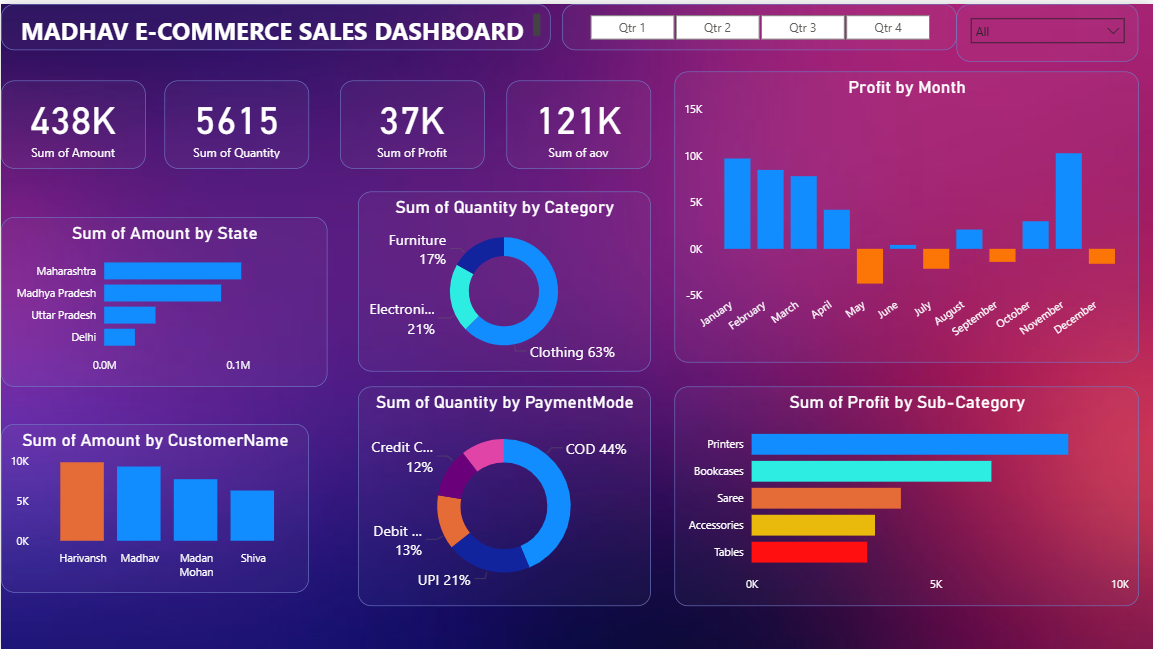

This screenshot's page, from the dashboard's own definition file:
{"tool":"powerbi","page":{"name":"Page 1","canvas":[1280,720],"ordinal":0},"visuals":[{"type":"textbox","box":[0,0,610.4,51],"z":0},{"type":"columnChart","title":"Profit by Month","fields":{"Category":["Orders.Order Date.Variation.Date Hierarchy.Month"],"Y":["Details.Profit"]},"box":[748.4,75.6,515.9,323.2],"z":1000},{"type":"barChart","fields":{"Category":["Details.Sub-Category"],"Y":["Details.Profit"]},"box":[748.4,425.2,515.9,243.8],"z":2000},{"type":"donutChart","fields":{"Category":["Details.Category"],"Y":["Details.Quantity"]},"box":[396.9,207.9,325,200.3],"z":3000},{"type":"donutChart","fields":{"Category":["Details.PaymentMode"],"Y":["Details.Quantity"]},"box":[396.9,425.2,325,243.8],"z":4000},{"type":"card","fields":{"Values":["Details.Amount"]},"box":[0,85,160.6,98.3],"z":5000},{"type":"card","fields":{"Values":["Details.Quantity"]},"box":[181.4,85,160.6,98.3],"z":6000},{"type":"card","fields":{"Values":["Details.Profit"]},"box":[376.1,85,160.6,98.3],"z":7000},{"type":"card","fields":{"Values":["Details.aov"]},"box":[561.3,85,160.6,98.3],"z":8000},{"type":"barChart","fields":{"Category":["Orders.State"],"Y":["Details.Amount"]},"box":[0,236.2,362.8,189],"z":9000},{"type":"columnChart","fields":{"Category":["Orders.CustomerName"],"Y":["Details.Amount"]},"box":[0,466.8,342,187.1],"z":10000},{"type":"slicer","fields":{"Values":["Orders.Order Date.Variation.Date Hierarchy.Quarter"]},"box":[623.6,0,438.4,51],"z":11000},{"type":"slicer","fields":{"Values":["Orders.State"]},"box":[1062.1,0,202.2,64.3],"z":12000}]}

Visuals, with their boxes in screenshot pixels (x1, y1, x2, y2), scaled from the page's 1280x720 canvas onto the 1153x649 screenshot:
textbox: {"x1": 0, "y1": 0, "x2": 550, "y2": 46}
"Profit by Month" columnChart: {"x1": 674, "y1": 68, "x2": 1139, "y2": 359}
barChart - Details.Sub-Category x Details.Profit: {"x1": 674, "y1": 383, "x2": 1139, "y2": 603}
donutChart - Details.Category x Details.Quantity: {"x1": 358, "y1": 187, "x2": 650, "y2": 368}
donutChart - Details.PaymentMode x Details.Quantity: {"x1": 358, "y1": 383, "x2": 650, "y2": 603}
card - Details.Amount: {"x1": 0, "y1": 77, "x2": 145, "y2": 165}
card - Details.Quantity: {"x1": 163, "y1": 77, "x2": 308, "y2": 165}
card - Details.Profit: {"x1": 339, "y1": 77, "x2": 483, "y2": 165}
card - Details.aov: {"x1": 506, "y1": 77, "x2": 650, "y2": 165}
barChart - Orders.State x Details.Amount: {"x1": 0, "y1": 213, "x2": 327, "y2": 383}
columnChart - Orders.CustomerName x Details.Amount: {"x1": 0, "y1": 421, "x2": 308, "y2": 589}
slicer - Orders.Order Date.Variation.Date Hierarchy.Quarter: {"x1": 562, "y1": 0, "x2": 957, "y2": 46}
slicer - Orders.State: {"x1": 957, "y1": 0, "x2": 1139, "y2": 58}
